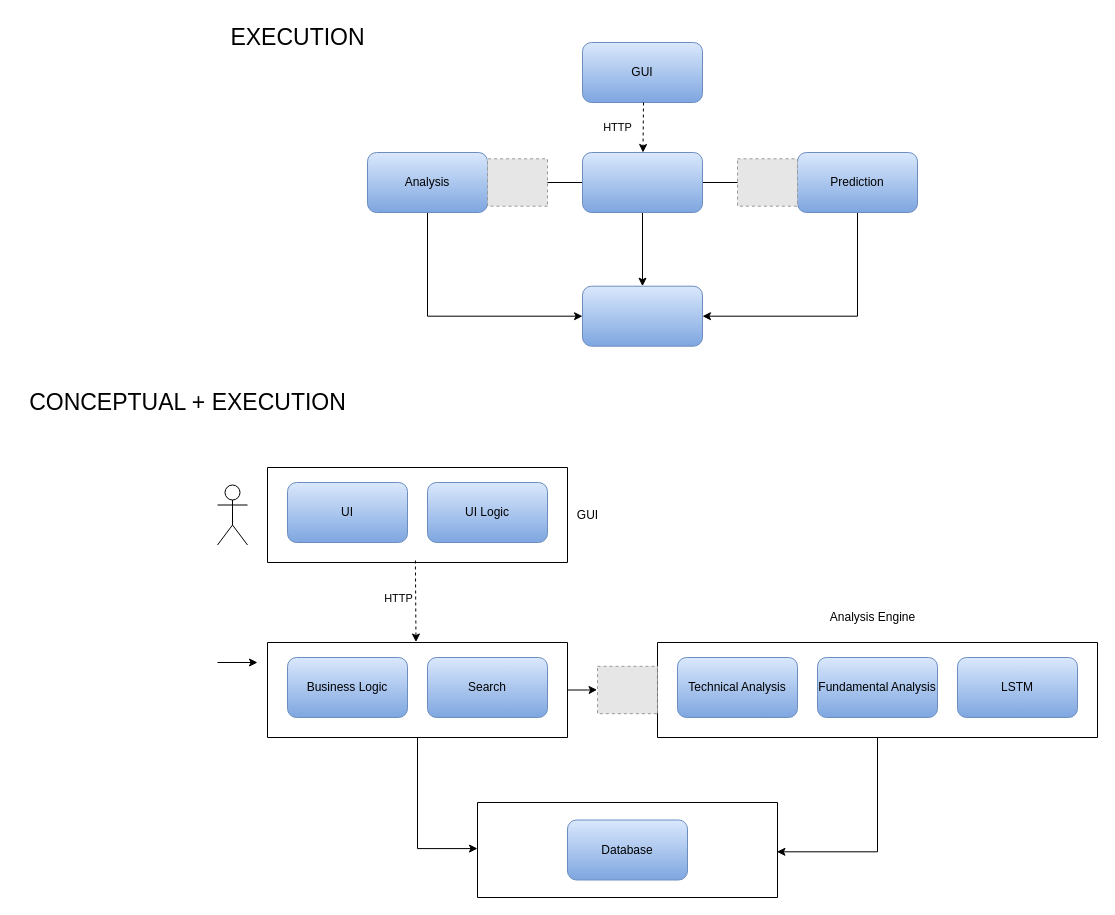
Some shapes in this 1115 by 915 pixel diagram are drawn without their labels. Grey dashed boxes stand in for pictures. The centre of each missing label's shape, as x and y in pixels:
Data: the point at 642,315
Service: the point at 642,182
